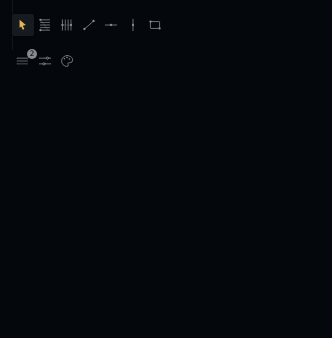
Test: 对象树多选(第 3 步) › 无选中时批量按钮不渲染,只留操作提示
Click the button named "对象树" at (23, 61), box x1=12 y1=50 x2=34 y2=72
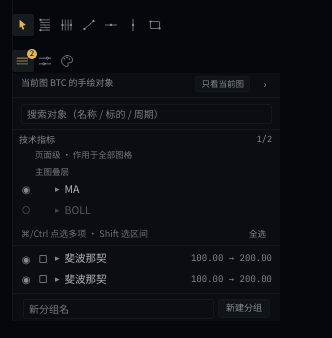
Check: the element with test id "kf-draw-batch" shows "⌘/Ctrl 点选多项 · Shift 选区间", box x1=21 y1=227 x2=148 y2=240
